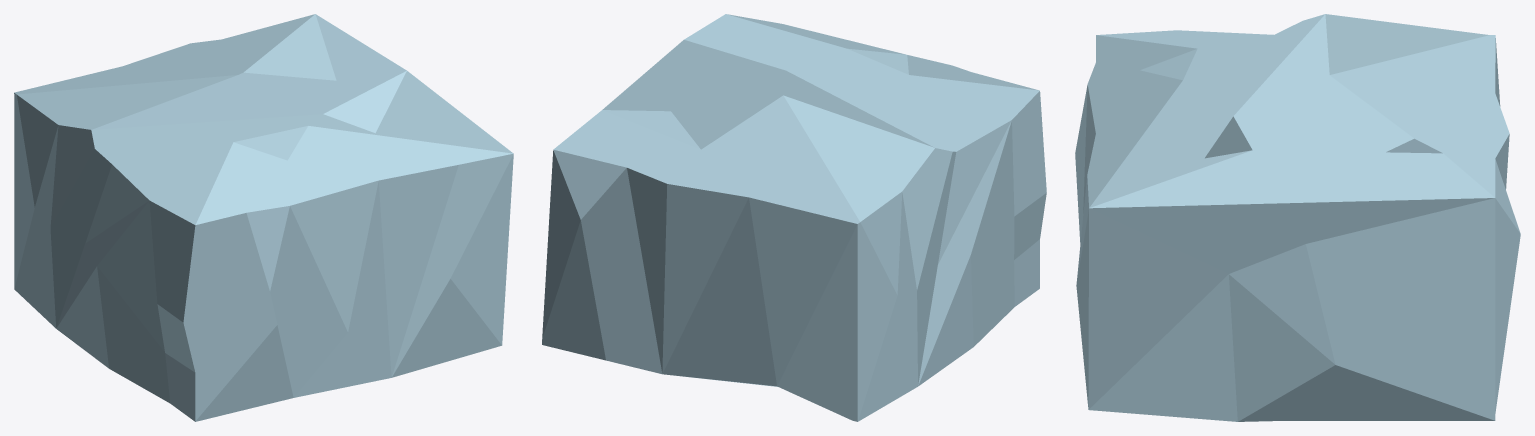
The model's file is ice_3_layer.fbx.
3 renders of one model, left to right at view 1: azimuth 30°, elevation 25°; view 2: azimuth 150°, elevation 25°; view 3: azimuth 270°, elevation 25°, orthographic. The views are drawn at different scales.
Parts seen in each view (by area): view 1: Cube; view 2: Cube; view 3: Cube.
Boxes of the visible parts, <box> form: Cube: <box>14,14,513,421</box>; Cube: <box>542,14,1046,421</box>; Cube: <box>1075,14,1520,421</box>.
Size of the model in its own units: 220 by 159 by 223.
